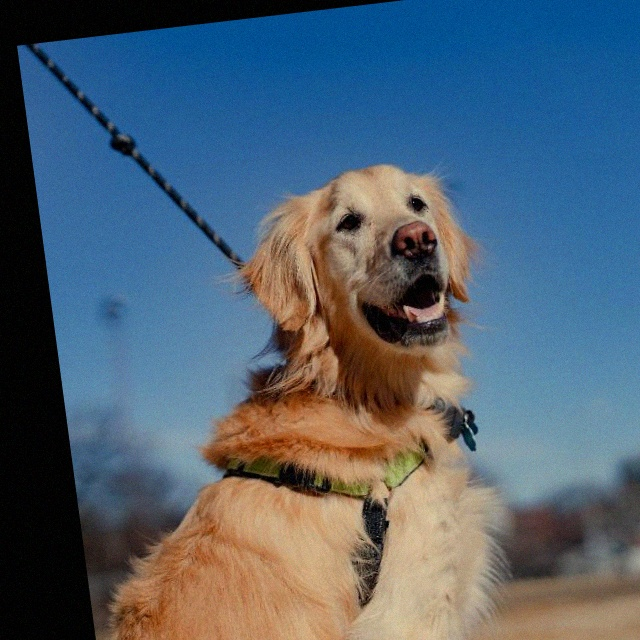dog: (113, 116, 533, 640)
